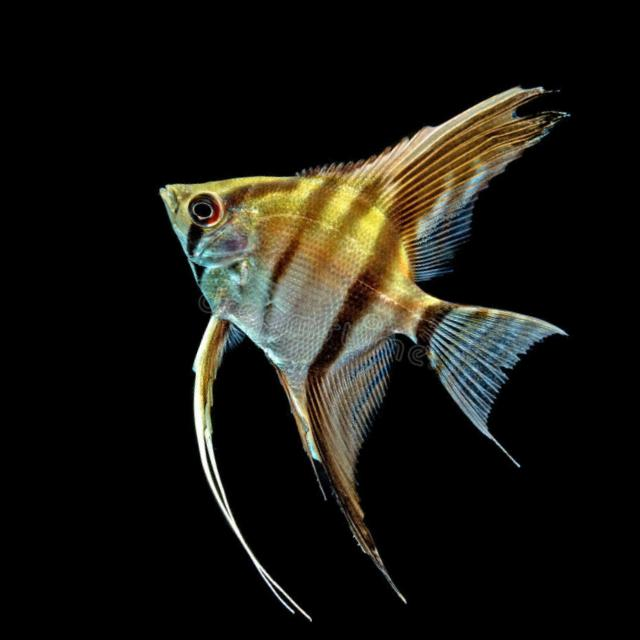AngelFish: (70, 3, 605, 638)
